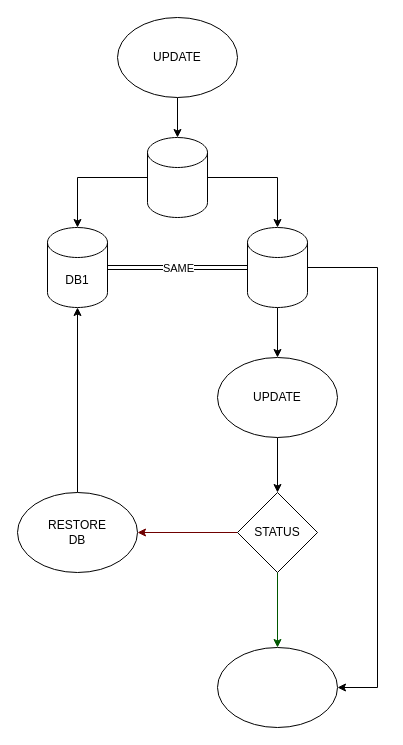
The diagram is 403 pixels wide and 745 high, and some of its shapes have lost their labels. Each missing label, with the centre of its shape:
"DB" belongs at point (177, 177).
"DB2" belongs at point (277, 267).
"UPDATE TO NEW DB" belongs at point (277, 687).
